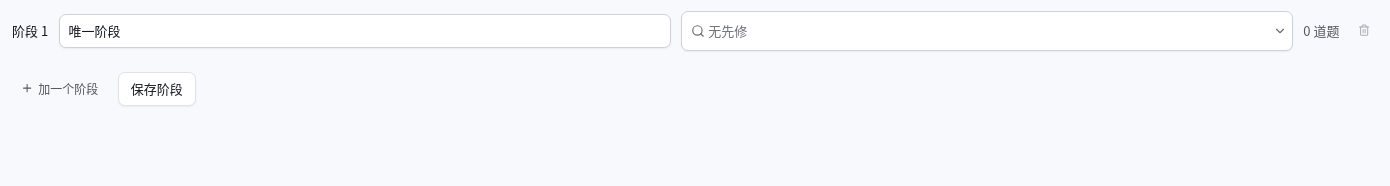
it: practice stage editor › disables deleting the only remaining stage
Expected: the button named "删除阶段 1" is disabled, [1350,16,1378,44]
Step 1. Click the button "加一个阶段" → (60, 88), box [12,74,107,102]
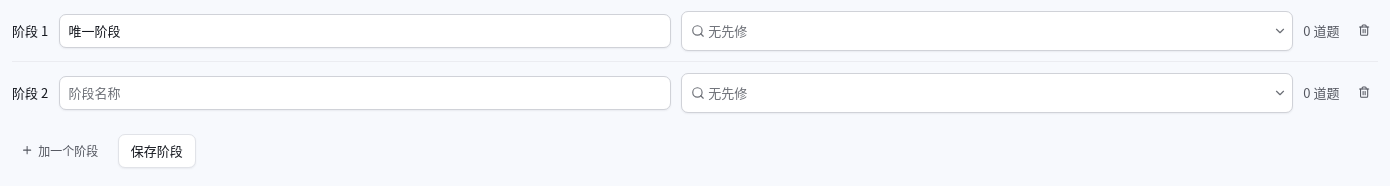
Expected: the number of fields with placeholder "阶段名称" is 2, [59,14,670,48]; [59,76,670,110]
Expected: the field with placeholder "阶段名称" is empty, [59,76,670,110]
Expected: the button named "删除阶段 1" is enabled, [1350,16,1378,44]
Step 2. Click the button named "删除阶段 2" → (1364, 92), box [1350,78,1378,106]
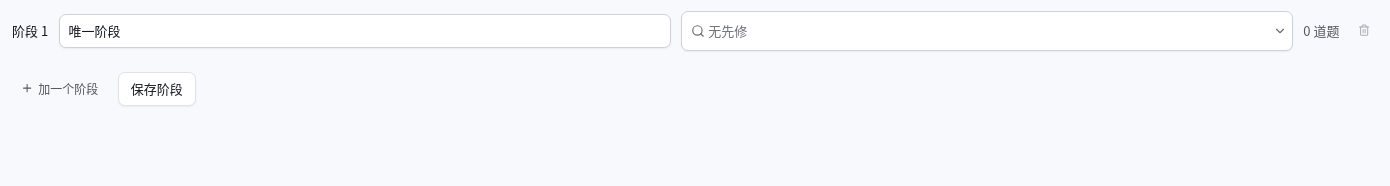
Expected: the button named "删除阶段 1" is disabled, [1350,16,1378,44]
